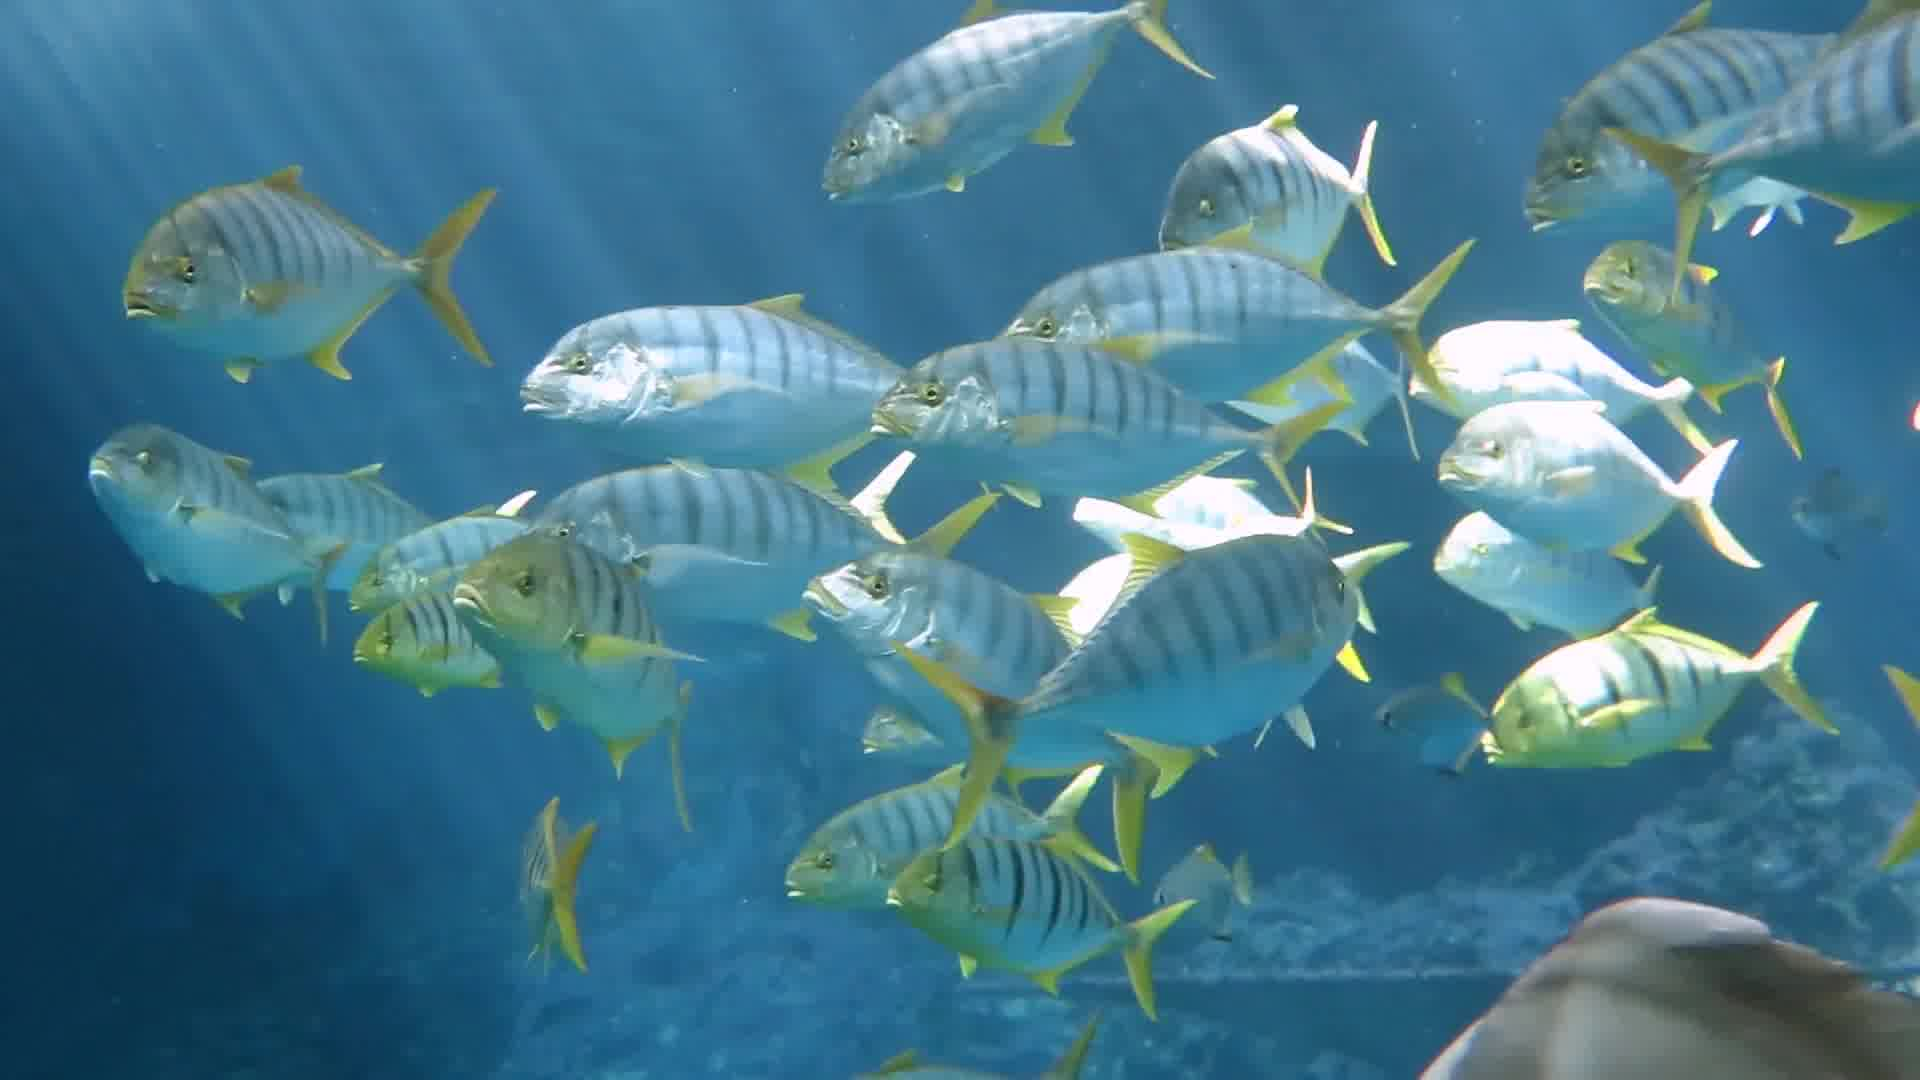Gnathanodon speciosus: (978, 533, 1375, 760), (807, 7, 1185, 210), (103, 181, 509, 368), (866, 355, 1349, 508), (1503, 30, 1837, 241), (436, 559, 717, 771), (501, 310, 907, 446), (1424, 411, 1762, 567), (771, 547, 1081, 716), (80, 429, 334, 611), (1120, 115, 1444, 256), (1458, 641, 1832, 764), (898, 845, 1180, 1000), (785, 781, 1127, 898), (340, 597, 472, 678)
